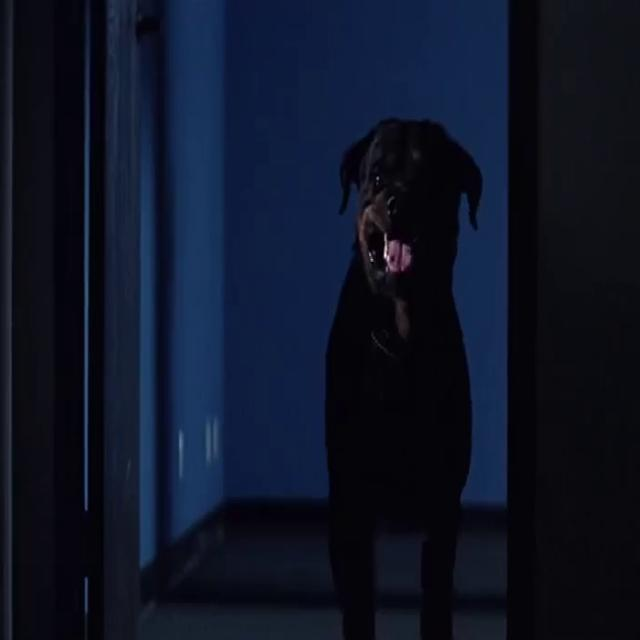Dog: (318, 33, 528, 617)
